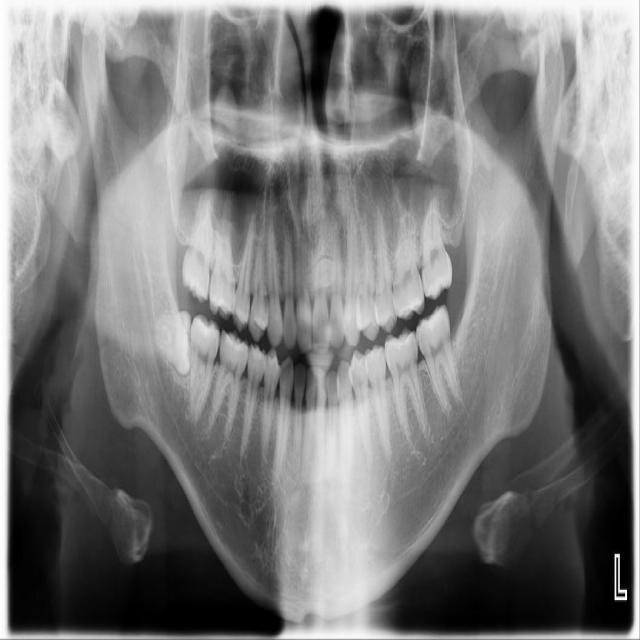impacted tooth: (149, 310, 190, 373)
